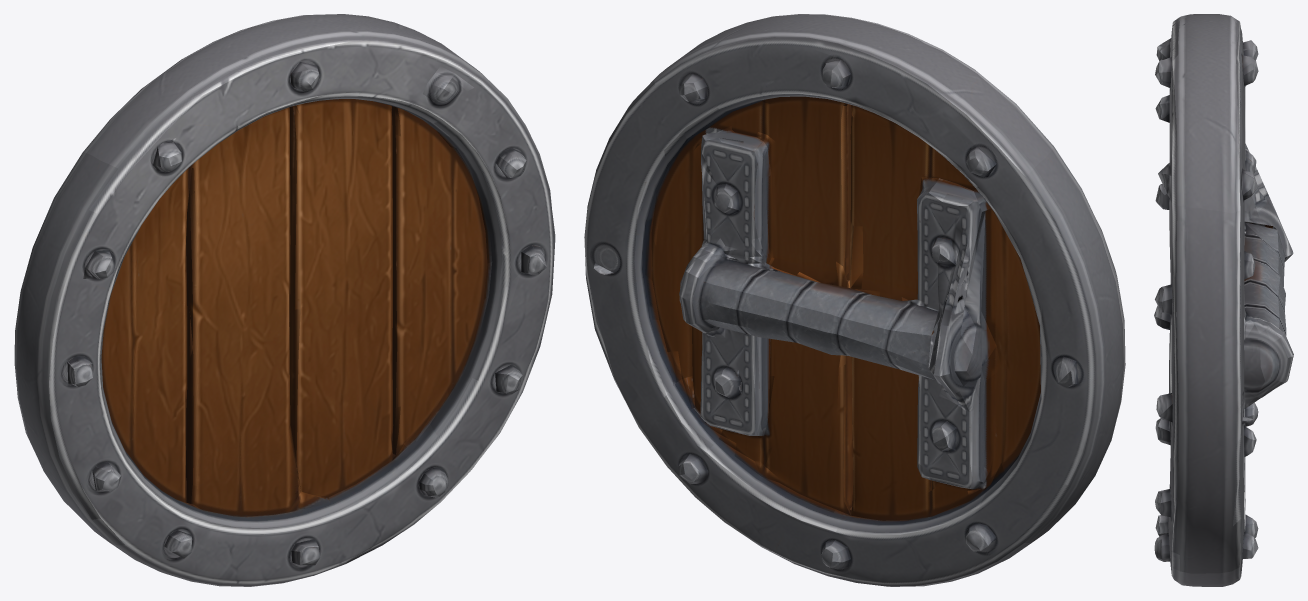
File: shield_lv1.glb
The picture shows the model from 3 angles, left to right: view 1: azimuth 30°, elevation 25°; view 2: azimuth 150°, elevation 25°; view 3: azimuth 270°, elevation 25°; orthographic projection. The views are drawn at different scales.
Parts seen in each view (by area): view 1: Mesh0; view 2: Mesh0; view 3: Mesh0.
Part boxes in pixels (x1=…): Mesh0: x1=14, y1=14, x2=555, y2=586; Mesh0: x1=584, y1=14, x2=1125, y2=586; Mesh0: x1=1154, y1=14, x2=1293, y2=586.
Size of the model in its own units: 1.9 by 1.9 by 0.4644.
Materials: 1 (1 with a texture image).
